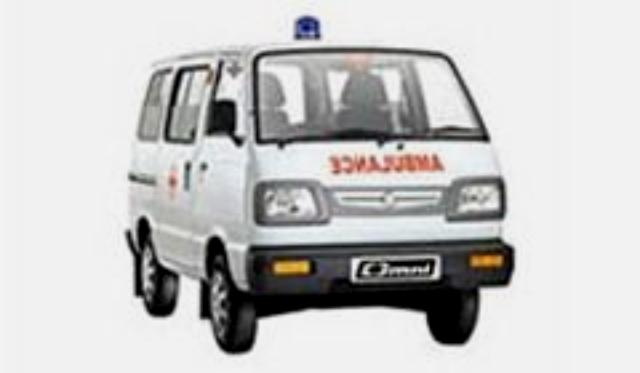ambulance: (125, 11, 509, 352)
